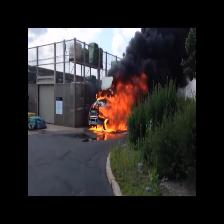fire: (94, 86, 133, 136)
smoke: (130, 28, 182, 80), (111, 62, 127, 81)
